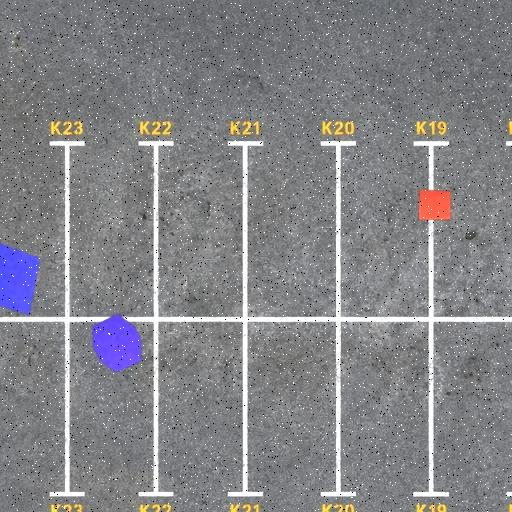BLUE_SQUARE: (0, 239, 40, 316)
RED_SQUARE: (418, 189, 451, 221)
